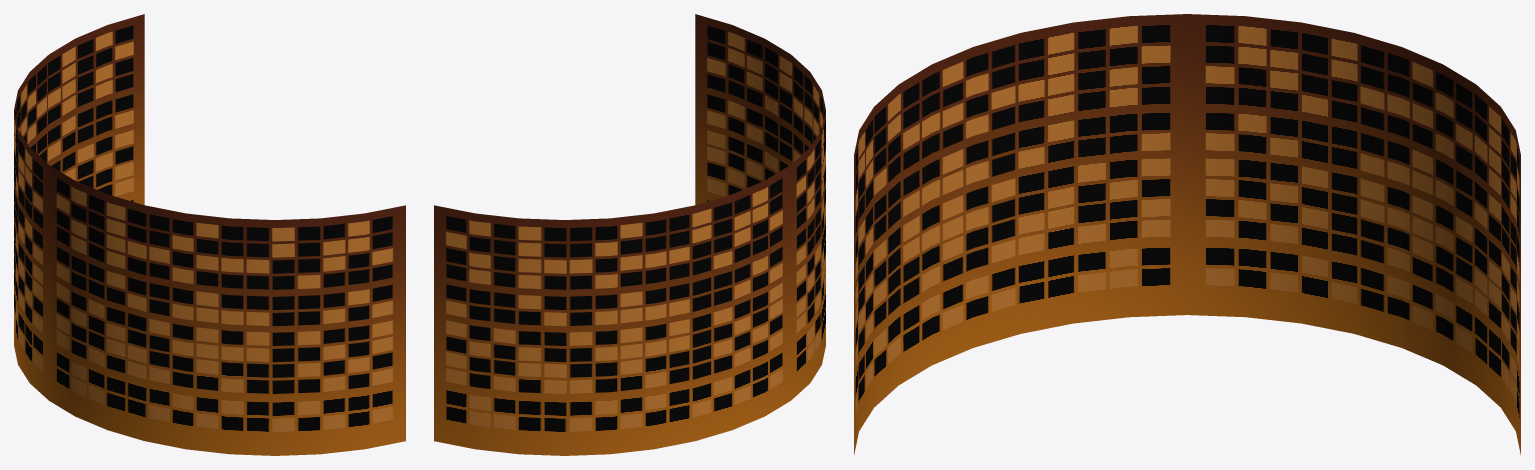
The model's file is Elvis_Building_04.FBX.
3 views of the same model, side by side, from view 1: azimuth 30°, elevation 25°; view 2: azimuth 150°, elevation 25°; view 3: azimuth 270°, elevation 25° (orthographic). The views are drawn at different scales.
Parts seen in each view (by area): view 1: Building_04; view 2: Building_04; view 3: Building_04.
Part boxes in pixels (box(x1,y1,x2,y2)): Building_04: box(14, 14, 405, 455); Building_04: box(434, 14, 825, 455); Building_04: box(854, 14, 1520, 454).
Size of the model in its own units: 20.08 by 40.16 by 20.
